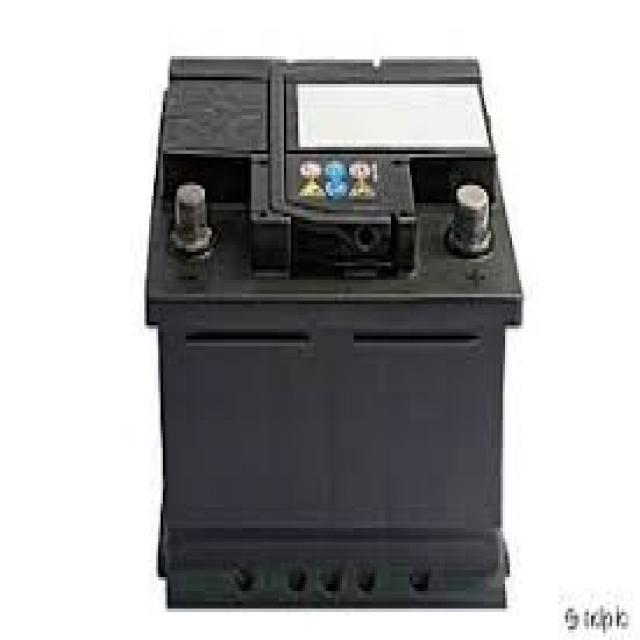non-organic waste: (144, 57, 526, 609)
